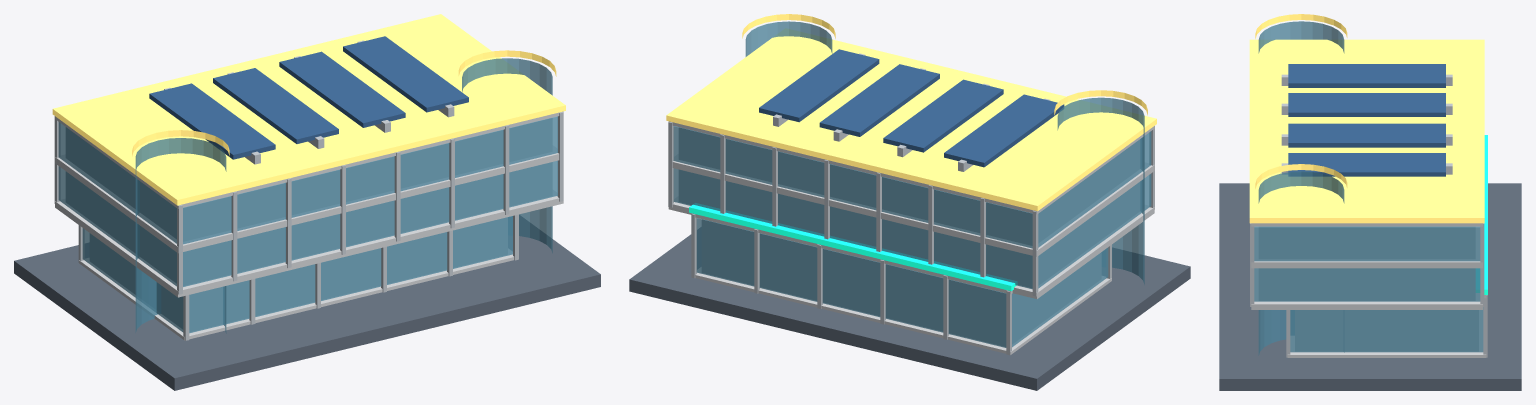
The model's file is vip_skybox_concourse.master.glb.
3 views of the same model, side by side, from view 1: azimuth 30°, elevation 25°; view 2: azimuth 150°, elevation 25°; view 3: azimuth 270°, elevation 25° (orthographic). The views are drawn at different scales.
Visible parts, largest first — view 1: vip_skybox_concourse_master; view 2: vip_skybox_concourse_master; view 3: vip_skybox_concourse_master.
Part boxes in pixels (x1,y1,x2,y2): vip_skybox_concourse_master: (14, 14, 600, 390); vip_skybox_concourse_master: (629, 14, 1190, 390); vip_skybox_concourse_master: (1219, 14, 1521, 390).
Size of the model in its own units: 2.82 by 1.24 by 1.84.
